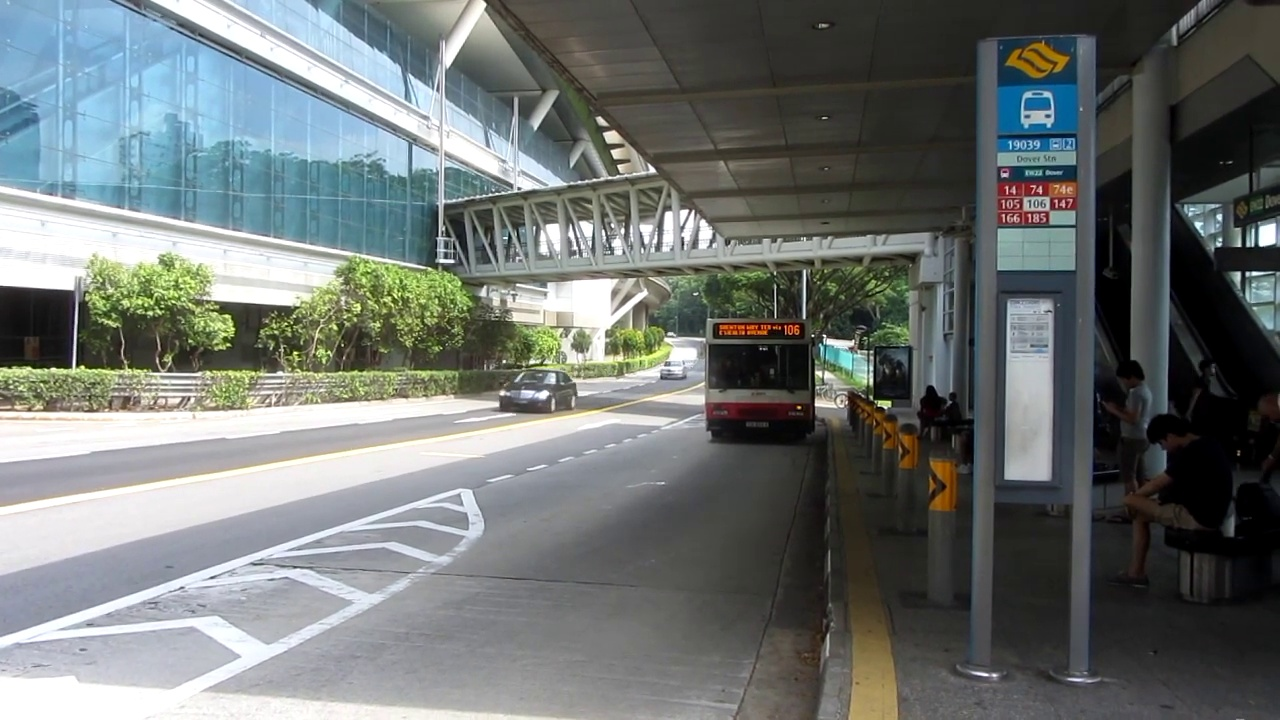bus panel: (712, 322, 806, 341)
